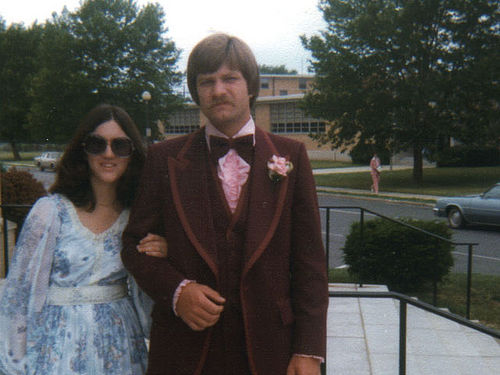without_mask: (188, 56, 259, 131), (80, 116, 140, 193)
